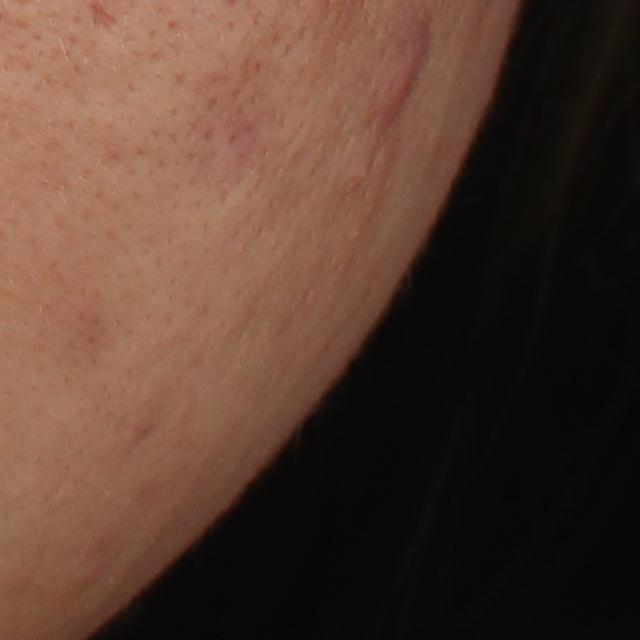atrophic_scar: (89, 1, 118, 32)
papule: (369, 36, 425, 138)
